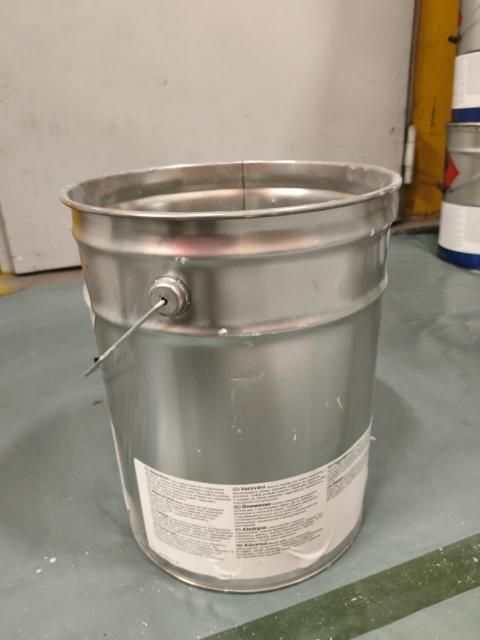Kagit: (177, 498, 338, 548)
Metal: (57, 162, 417, 587)
